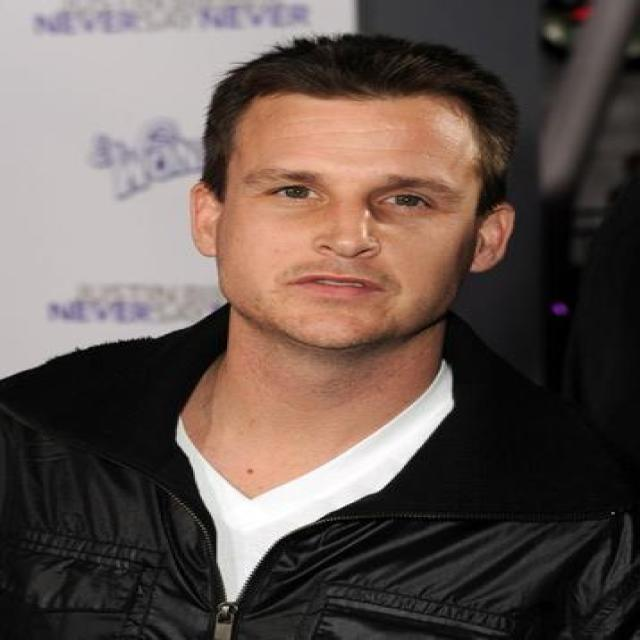0_rostro_limpio: (189, 44, 521, 348)
